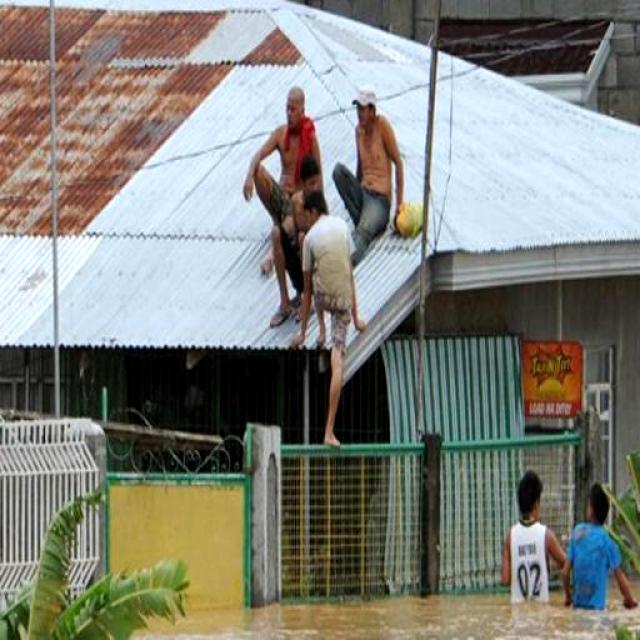civilian: (293, 184, 376, 456), (243, 80, 320, 317), (489, 463, 584, 627), (328, 83, 406, 280), (560, 464, 638, 620), (268, 160, 336, 326)
